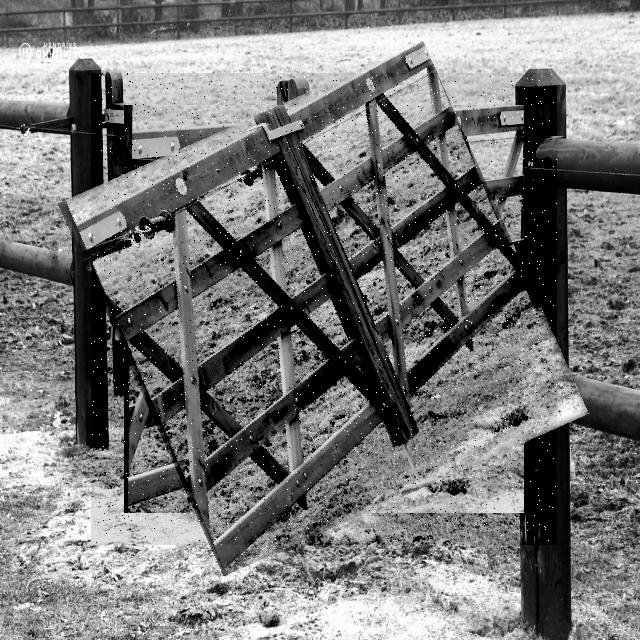fences: (91, 73, 557, 545)
